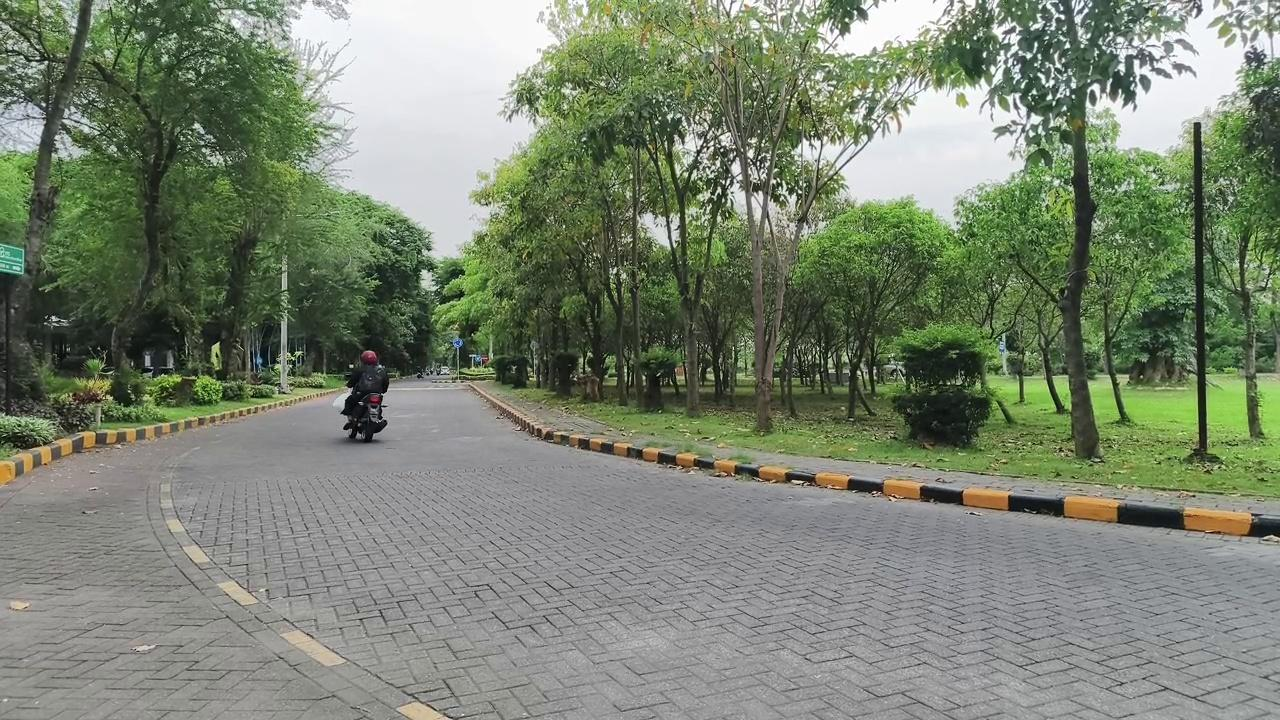Helmet: (342, 350, 388, 428)
Motor: (349, 393, 387, 441)
